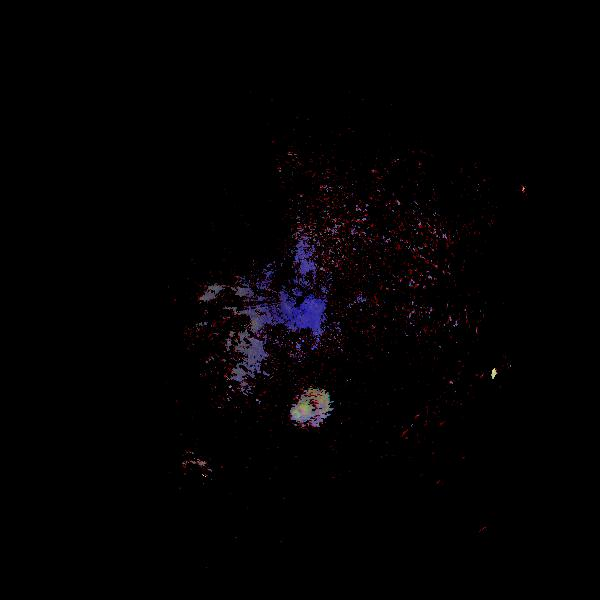roost: (289, 401, 310, 422)
